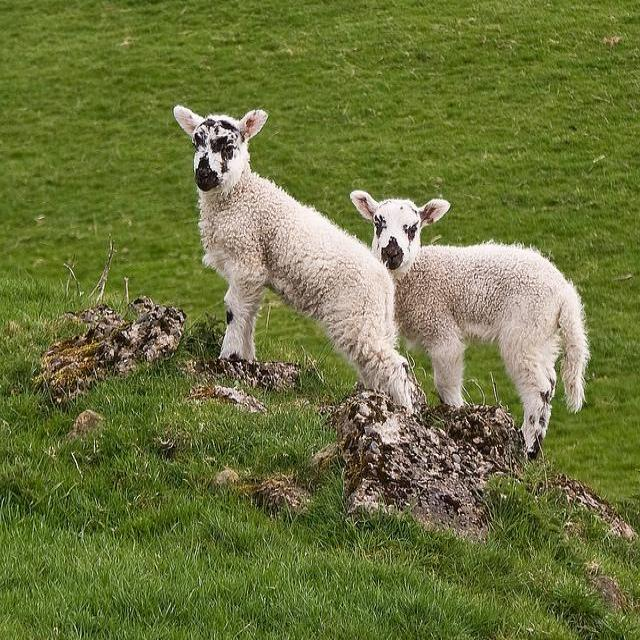Sheep: (174, 103, 423, 420), (350, 190, 589, 456)
